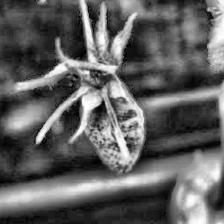Gray Mold: (57, 3, 147, 175)
